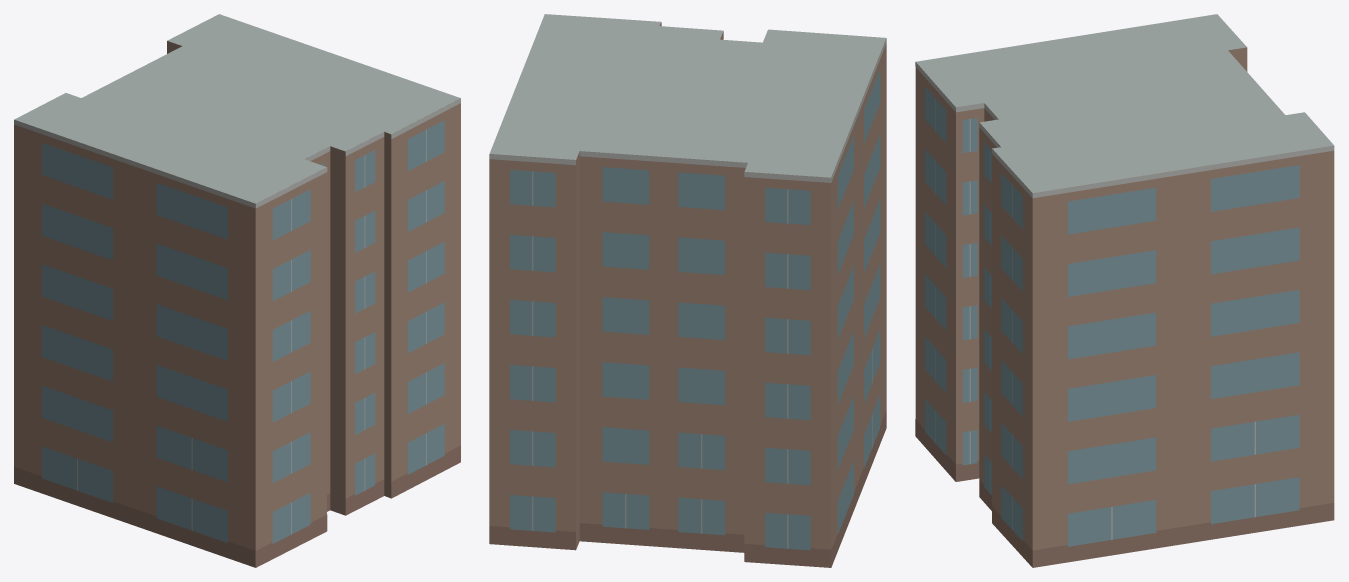
File: survey-upis-32863923.glb
3 views of the same model, side by side, from view 1: azimuth 30°, elevation 25°; view 2: azimuth 150°, elevation 25°; view 3: azimuth 270°, elevation 25° (orthographic). The views are drawn at different scales.
Parts seen in each view (by area): view 1: survey-upis-32863923.tmp; view 2: survey-upis-32863923.tmp; view 3: survey-upis-32863923.tmp.
Boxes of the visible parts, bbox=[...] form: survey-upis-32863923.tmp: bbox=[14, 14, 460, 567]; survey-upis-32863923.tmp: bbox=[489, 14, 886, 567]; survey-upis-32863923.tmp: bbox=[915, 14, 1334, 567].
Bounding box in the file's own units: 18.58 × 18.1 × 18.35.
